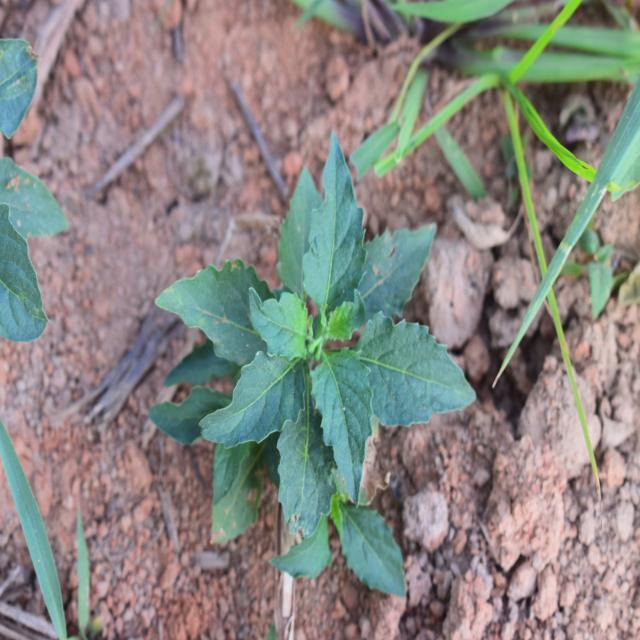Black_nightshade: (180, 174, 456, 530)
